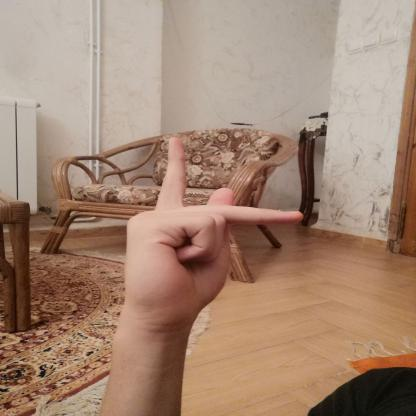DHAA: (107, 131, 315, 340)
